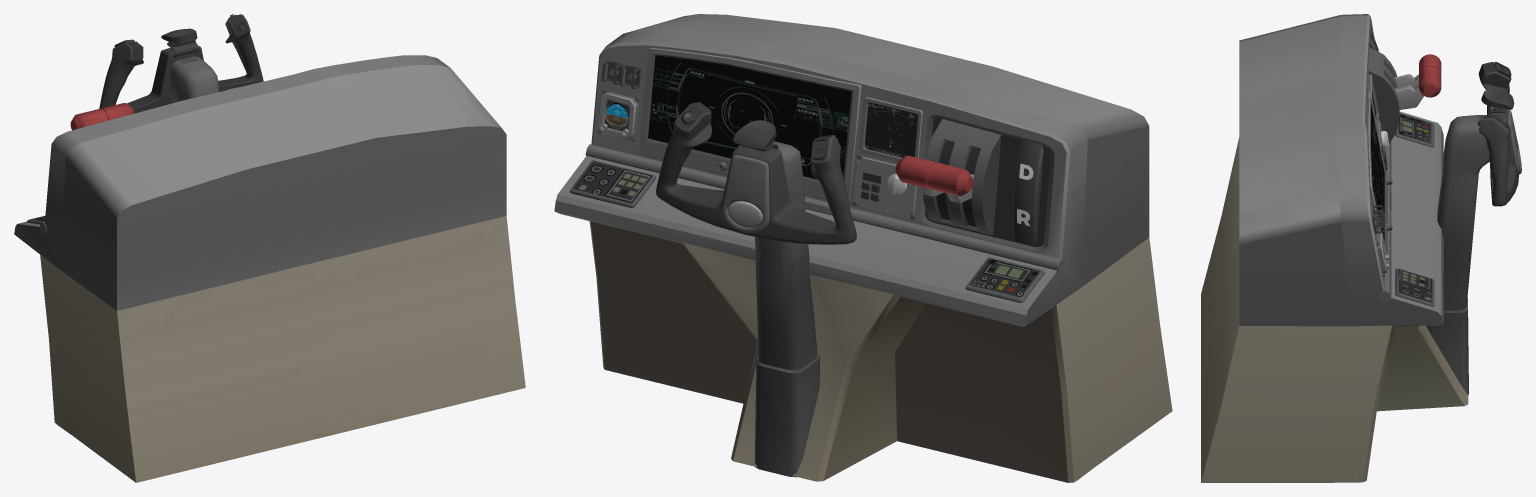
The model's file is Plane Dashboard.fbx.
3 views of the same model, side by side, from view 1: azimuth 30°, elevation 25°; view 2: azimuth 150°, elevation 25°; view 3: azimuth 270°, elevation 25° (orthographic). The views are drawn at different scales.
Parts seen in each view (by area): view 1: Dashboard, Steering, Lever; view 2: Dashboard, Steering, Lever; view 3: Dashboard, Steering, Lever.
Part boxes in pixels (left/top/right/bottom): Dashboard: left=14, top=55, right=525, bottom=482; Steering: left=99, top=14, right=263, bottom=113; Lever: left=70, top=103, right=134, bottom=130; Dashboard: left=554, top=14, right=1172, bottom=482; Steering: left=656, top=102, right=856, bottom=244; Lever: left=895, top=155, right=973, bottom=203; Dashboard: left=1201, top=14, right=1489, bottom=482; Steering: left=1477, top=62, right=1521, bottom=206; Lever: left=1394, top=54, right=1441, bottom=109.
Bounding box in the file's own units: 316 × 232 × 226.
